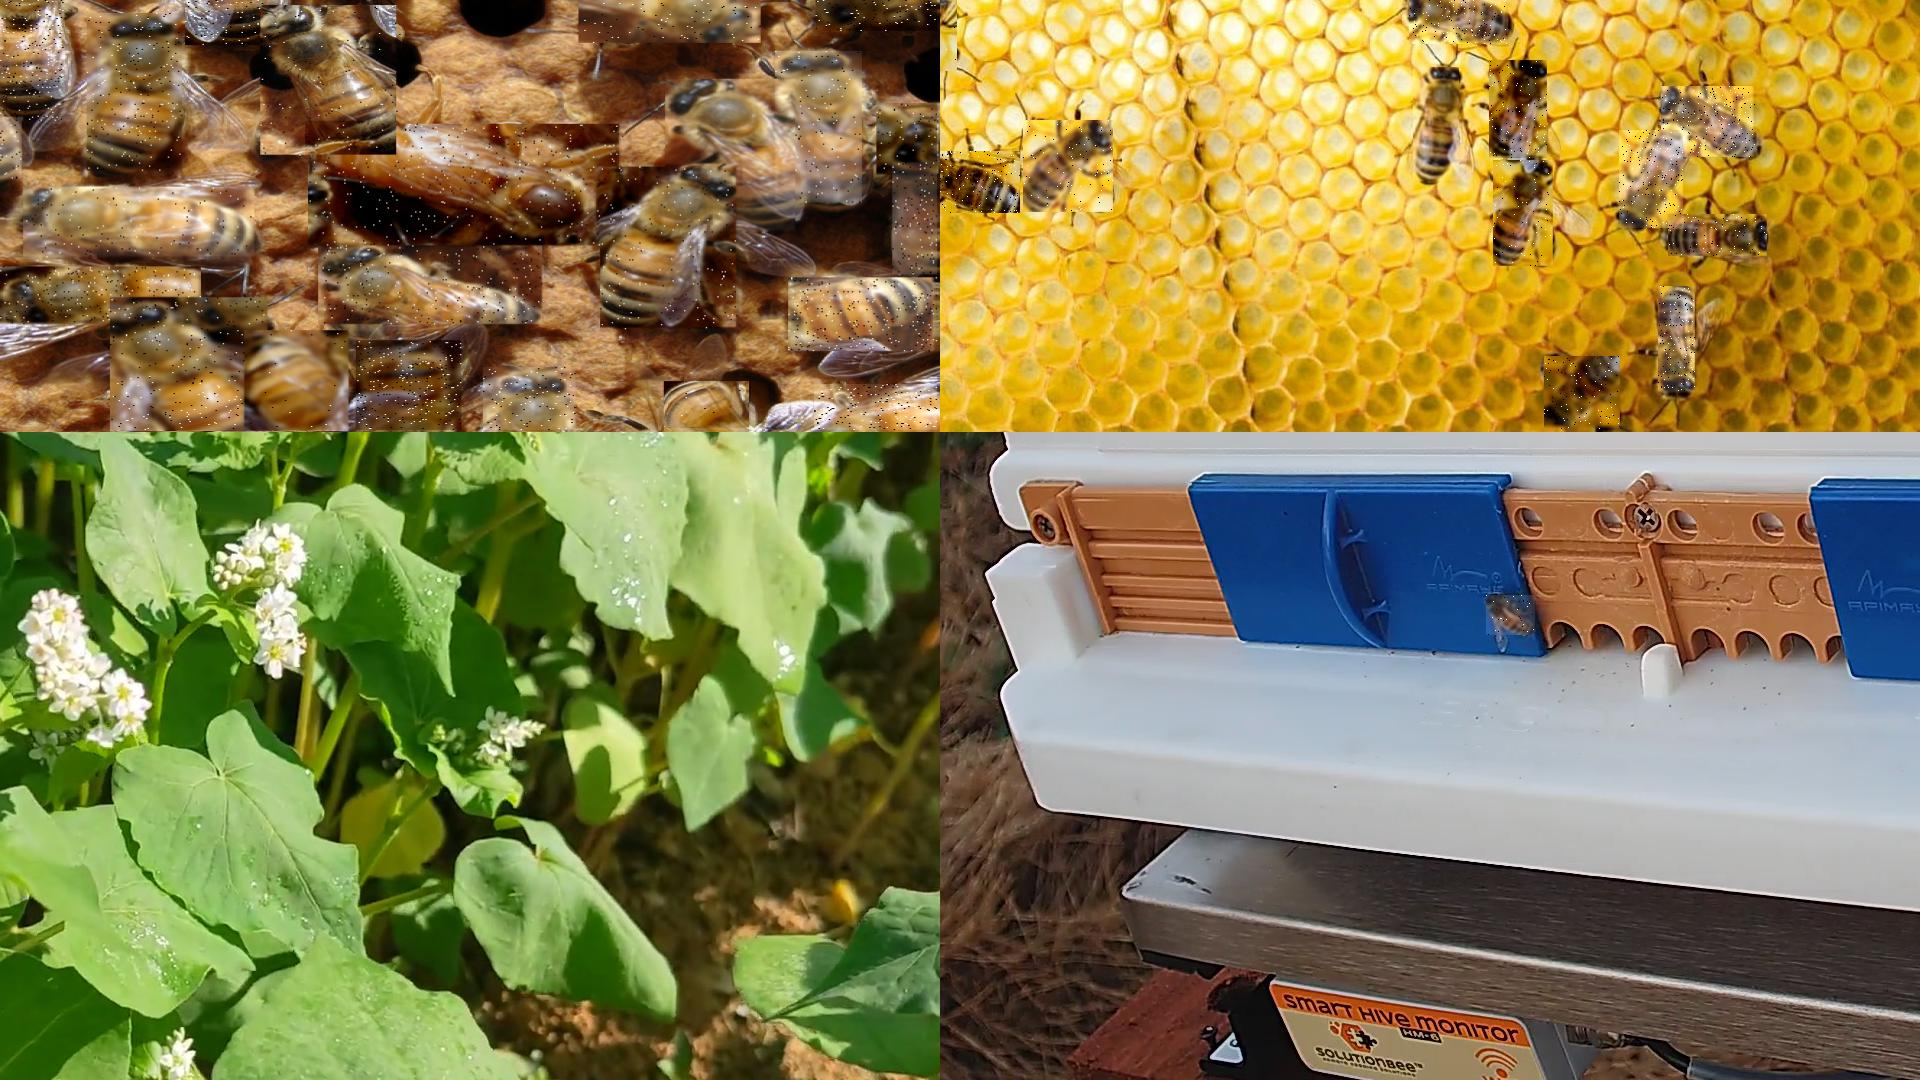bee: (601, 167, 744, 332), (261, 5, 402, 160), (109, 297, 269, 431), (666, 79, 798, 235), (319, 245, 545, 326), (24, 187, 257, 261), (87, 13, 185, 171), (775, 51, 864, 204), (0, 266, 203, 326), (790, 277, 940, 352), (244, 330, 349, 431), (356, 340, 463, 431), (1023, 120, 1114, 214), (579, 0, 762, 44), (0, 0, 65, 121), (1662, 86, 1756, 158), (1493, 160, 1555, 268), (1619, 131, 1684, 229), (483, 367, 578, 431), (814, 384, 939, 431), (1489, 61, 1548, 161), (1544, 357, 1621, 431), (1414, 69, 1460, 185), (893, 162, 939, 276), (940, 152, 1022, 215), (1408, 0, 1509, 46), (185, 0, 284, 46), (877, 103, 939, 175), (665, 382, 756, 431), (1668, 215, 1768, 257), (1659, 287, 1696, 396), (815, 0, 939, 32), (1486, 595, 1536, 636), (0, 116, 22, 182)
queen: (310, 124, 626, 247)
